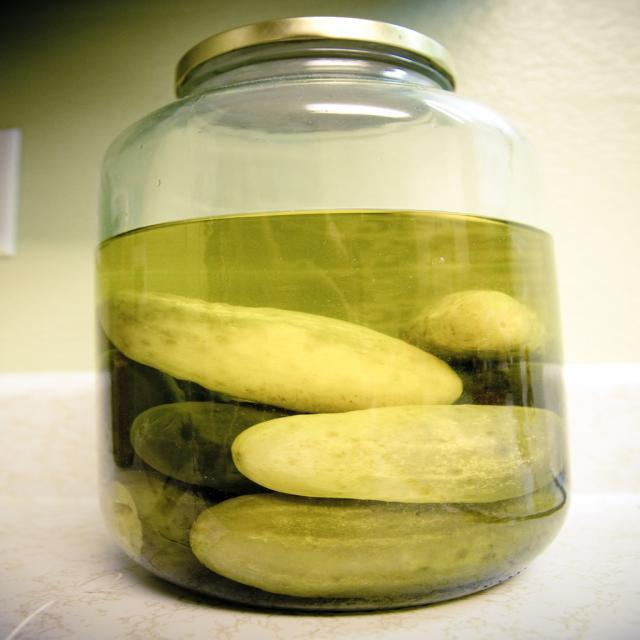Cucumber: (93, 289, 569, 594), (229, 403, 568, 503)
